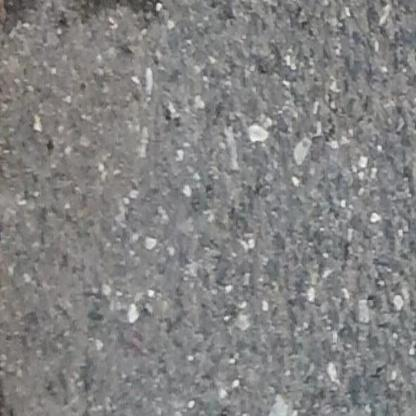Cracks: (0, 0, 71, 60), (72, 0, 175, 22)
